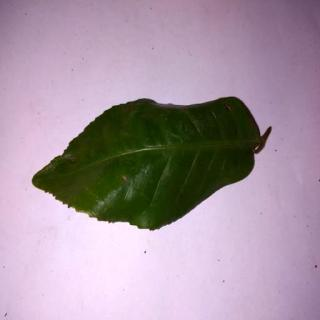Bird Eye Spot: (33, 97, 265, 231)
